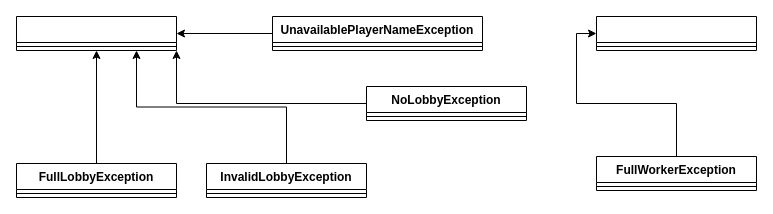
This 773x214 diagram has some shape labels left out. The shapes that lost their labels are listed below. From the top down, each one's box as (x1, y1, x2, y2) in pixels, then its label:
(16, 16, 176, 50): LobbyException
(596, 16, 756, 50): WorkerException
